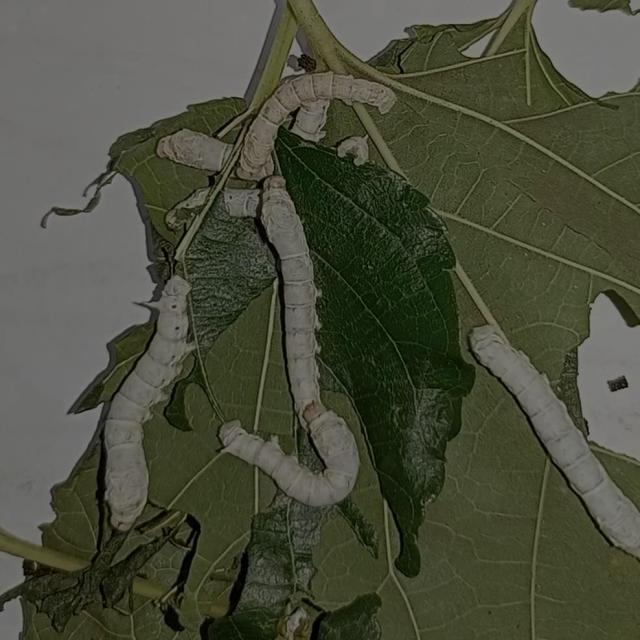Healthy: (456, 306, 640, 562), (90, 271, 212, 536), (244, 171, 351, 416), (241, 58, 399, 170), (218, 420, 380, 514)
